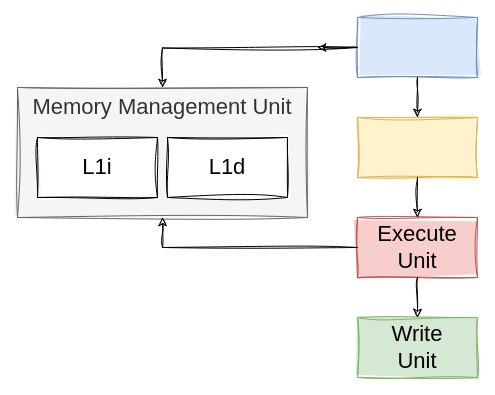
Image size: 495x395. Some labels were removed from this diagram. Each missing label, with the centre of its shape:
Decode Unit: point (417, 147)
Fetch Unit: point (417, 47)
